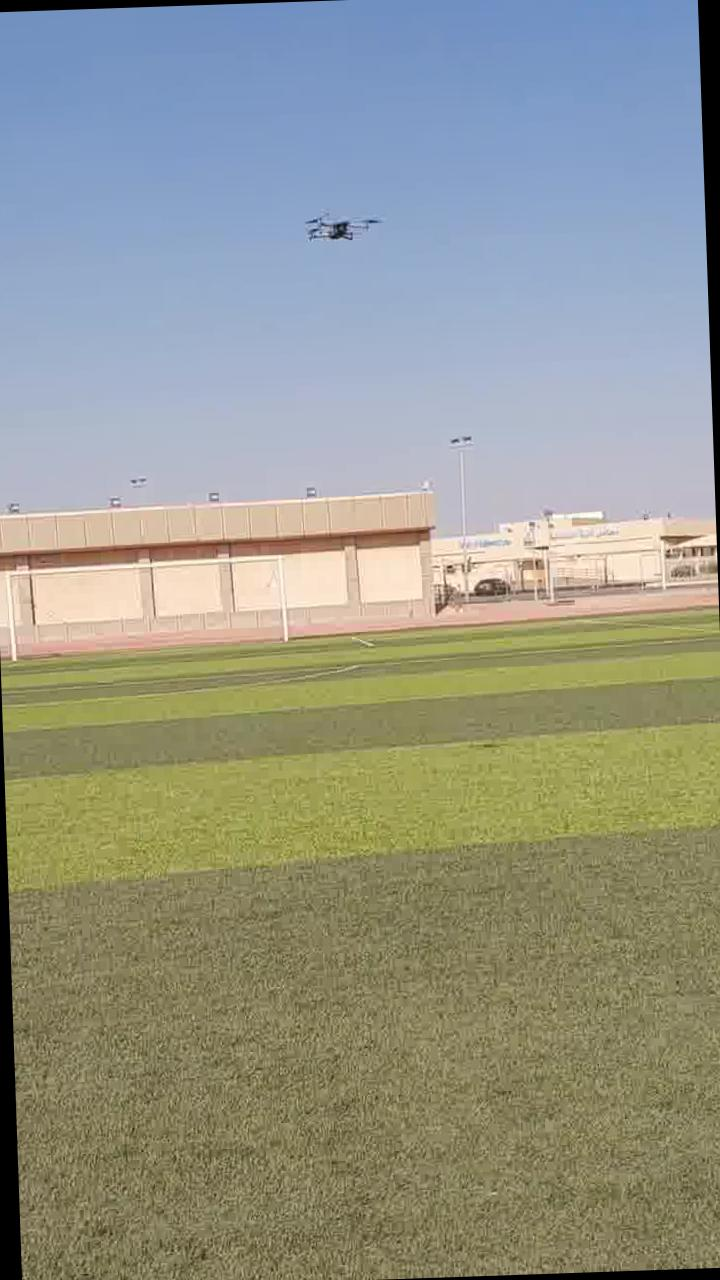drone: (296, 202, 386, 257)
